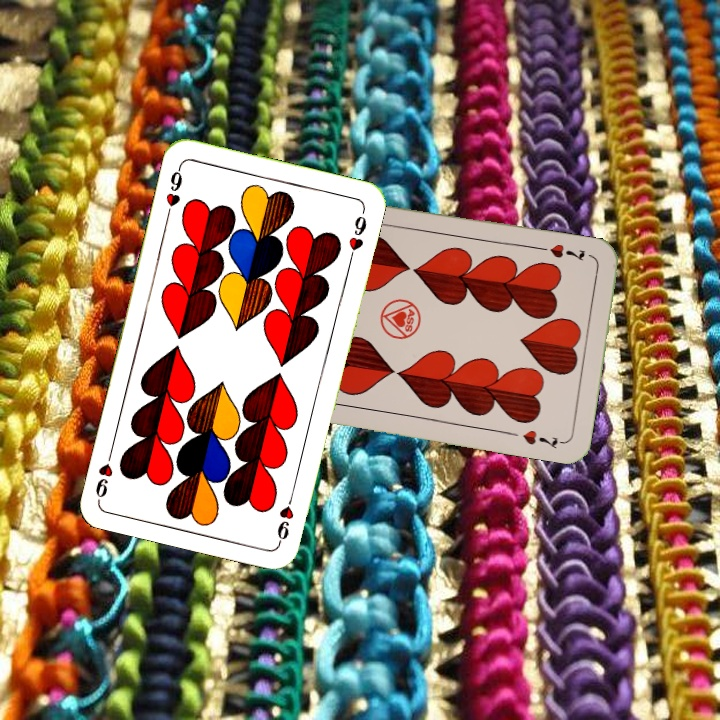H7: (546, 239, 588, 264)
H9: (161, 161, 185, 220), (273, 487, 297, 545)
